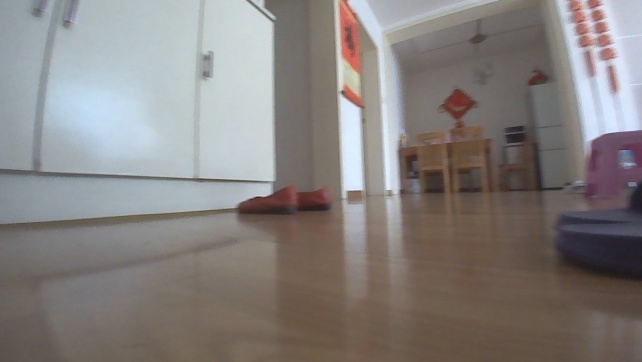dining_table: (399, 120, 535, 195)
refrigerator: (526, 78, 571, 190)
shoe: (233, 180, 298, 216), (294, 182, 331, 213)
